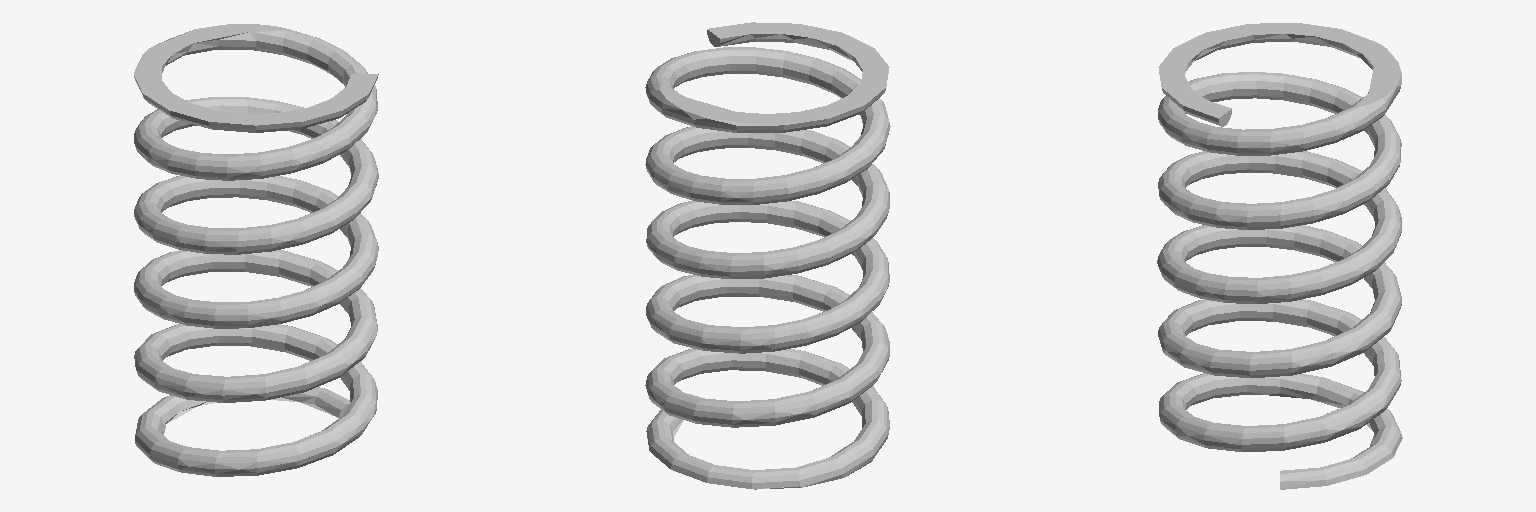
File: 405. Пружина стопорного шарика (соприкосновение).obj
3 renders of one model, left to right at view 1: azimuth 30°, elevation 25°; view 2: azimuth 150°, elevation 25°; view 3: azimuth 270°, elevation 25°, orthographic.
Visible parts, largest first — view 1: Твердое тело1; view 2: Твердое тело1; view 3: Твердое тело1.
Boxes of the visible parts, <box> form: Твердое тело1: <box>134,24,378,476</box>; Твердое тело1: <box>645,22,890,489</box>; Твердое тело1: <box>1157,23,1402,489</box>.
Bounding box in the file's own units: 9 × 14.75 × 9.